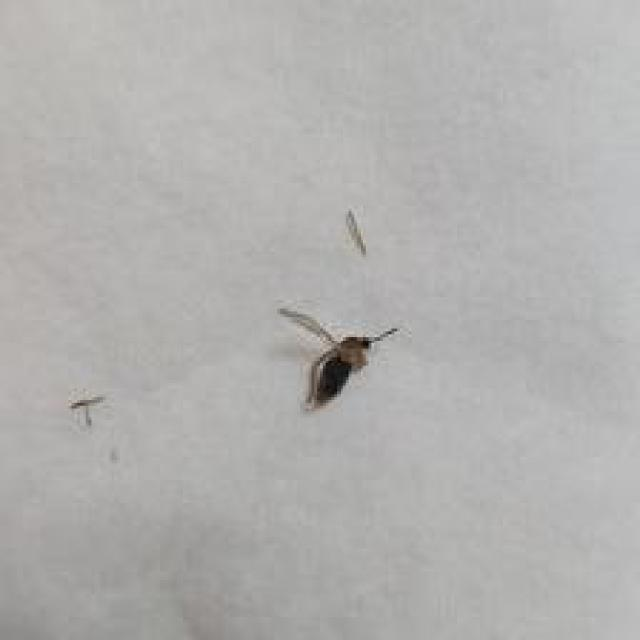Culex: (277, 306, 400, 411)
